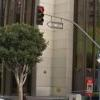Tree: (2, 15, 57, 83)
